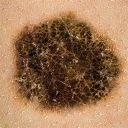Melanoma: (20, 23, 112, 105)
